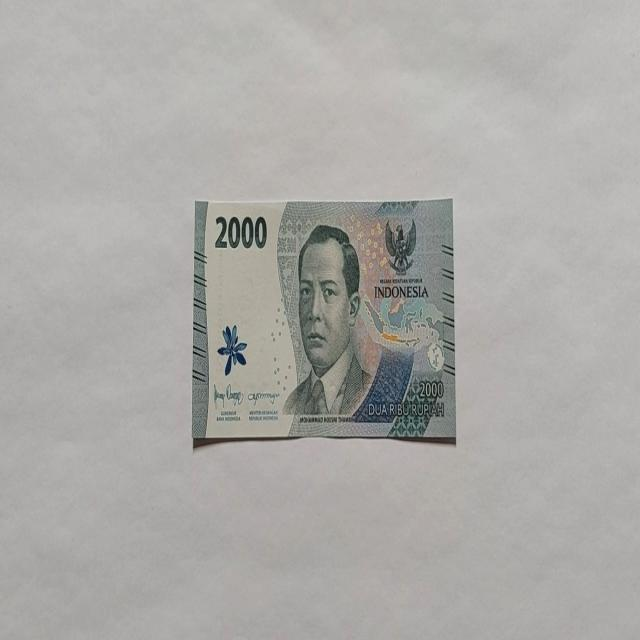dua ribu rupiah: (192, 196, 456, 444), (282, 223, 374, 418)
